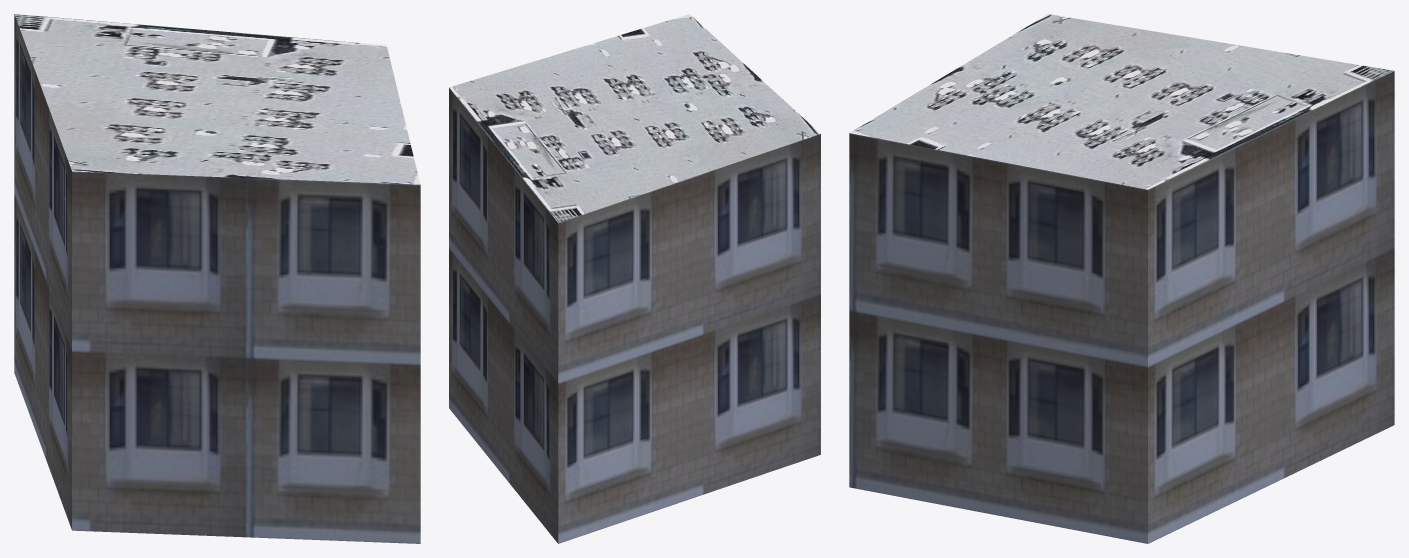
The model's file is ResTex__2347.fbx.
3 renders of one model, left to right at view 1: azimuth 30°, elevation 25°; view 2: azimuth 150°, elevation 25°; view 3: azimuth 270°, elevation 25°, orthographic. The views are drawn at different scales.
Parts seen in each view (by area): view 1: CityEngineMaterial_3_m, CityEngineMaterial_m; view 2: CityEngineMaterial_3_m, CityEngineMaterial_m; view 3: CityEngineMaterial_3_m, CityEngineMaterial_m.
Part boxes in pixels (<box>): CityEngineMaterial_3_m: <box>14,14,420,543</box>; CityEngineMaterial_m: <box>14,14,420,184</box>; CityEngineMaterial_3_m: <box>449,87,820,543</box>; CityEngineMaterial_m: <box>449,14,820,222</box>; CityEngineMaterial_3_m: <box>849,71,1394,543</box>; CityEngineMaterial_m: <box>849,14,1394,189</box>.
Size of the model in its own units: 6.39 by 6 by 8.37.
Materials: 2 (2 with a texture image).
